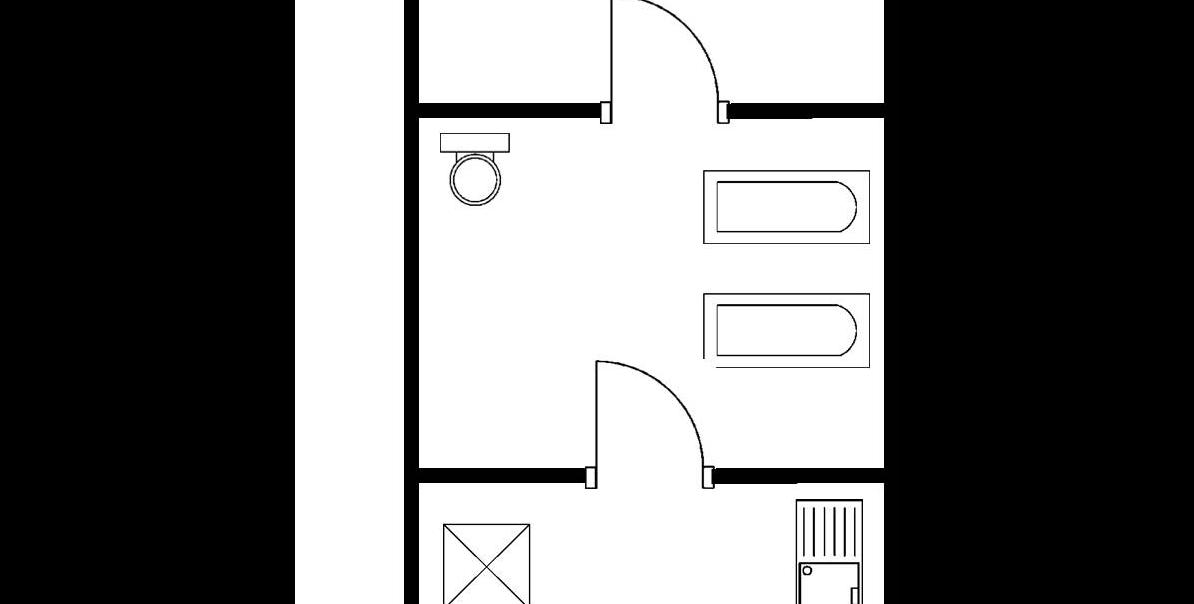sink: (788, 492, 867, 604)
toilet: (432, 125, 515, 209)
tub: (695, 283, 876, 377), (696, 159, 876, 249)
